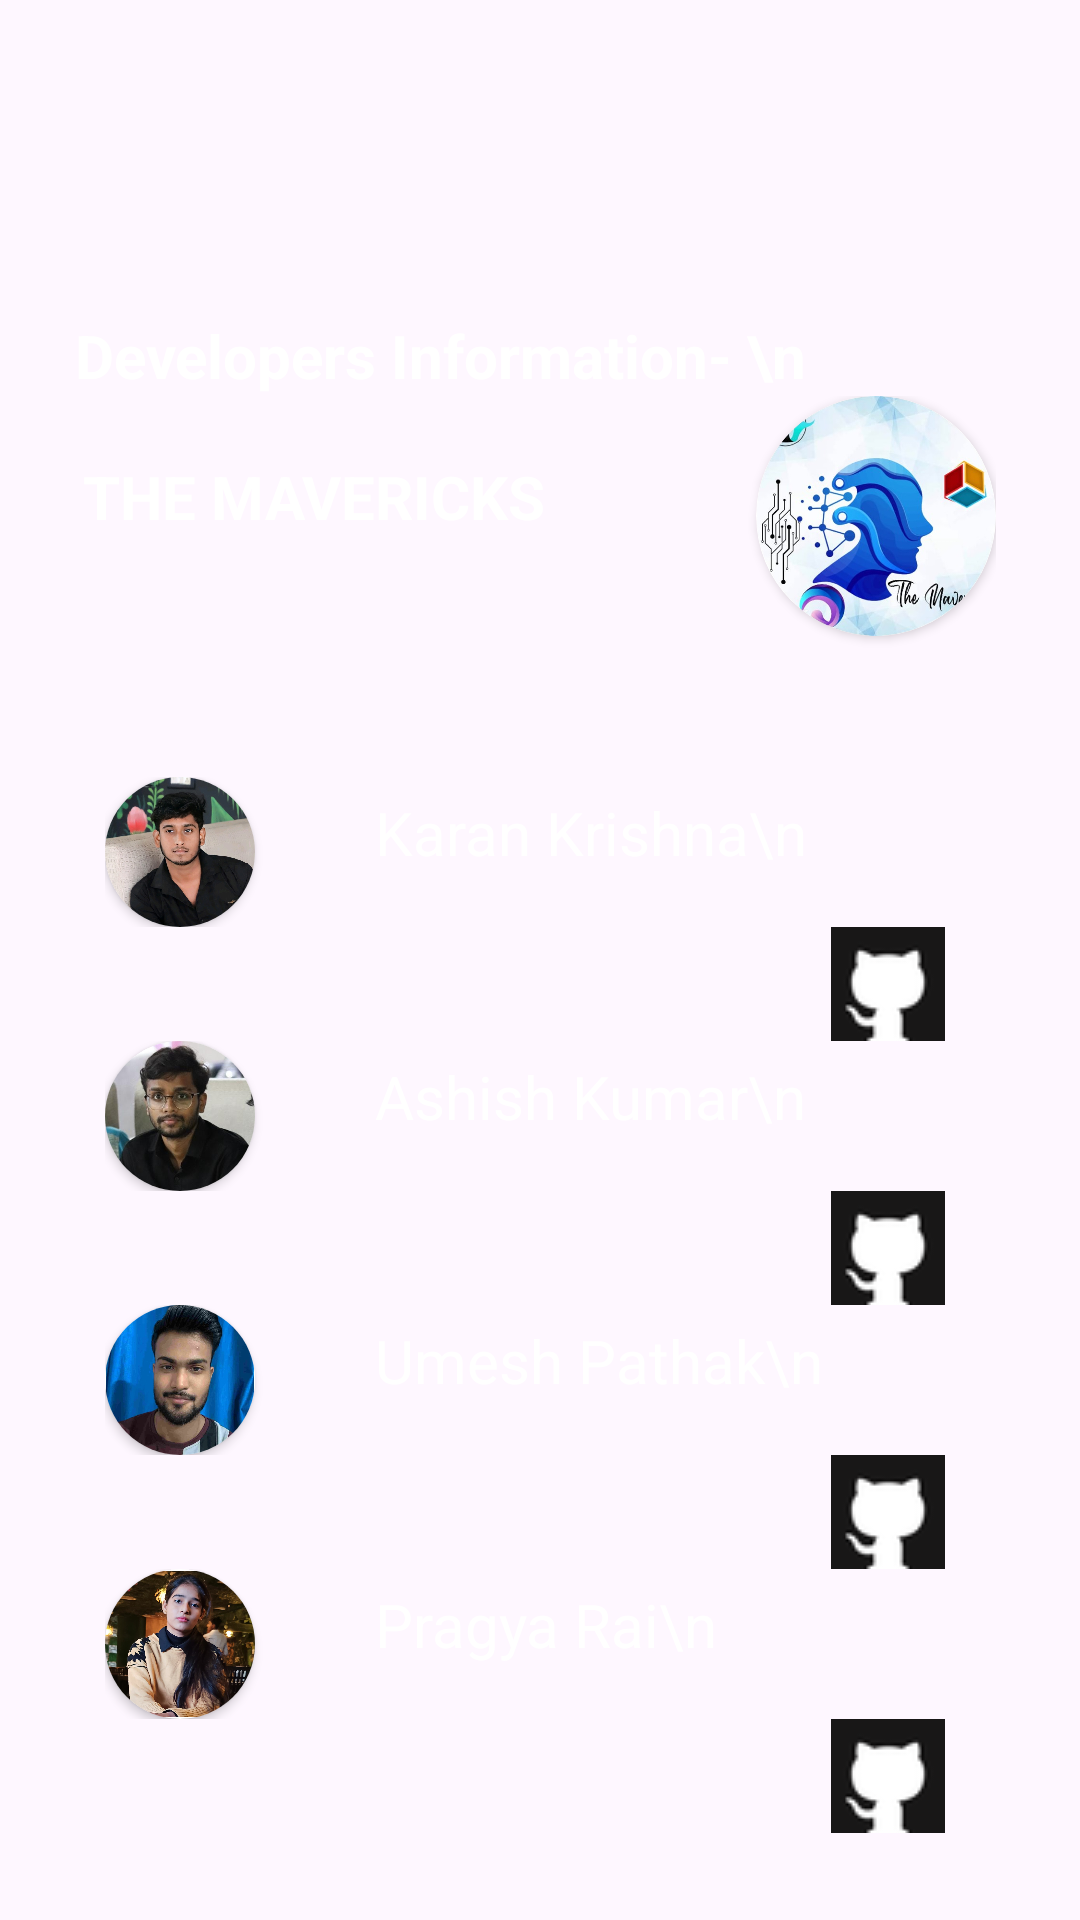

Icon bounding boxes for this 1080px×1920px phone screenshot, format (x1, y1, x2, y2):
developer: (105, 777, 255, 927), (105, 1041, 255, 1191), (105, 1305, 254, 1455), (105, 1571, 255, 1719)
